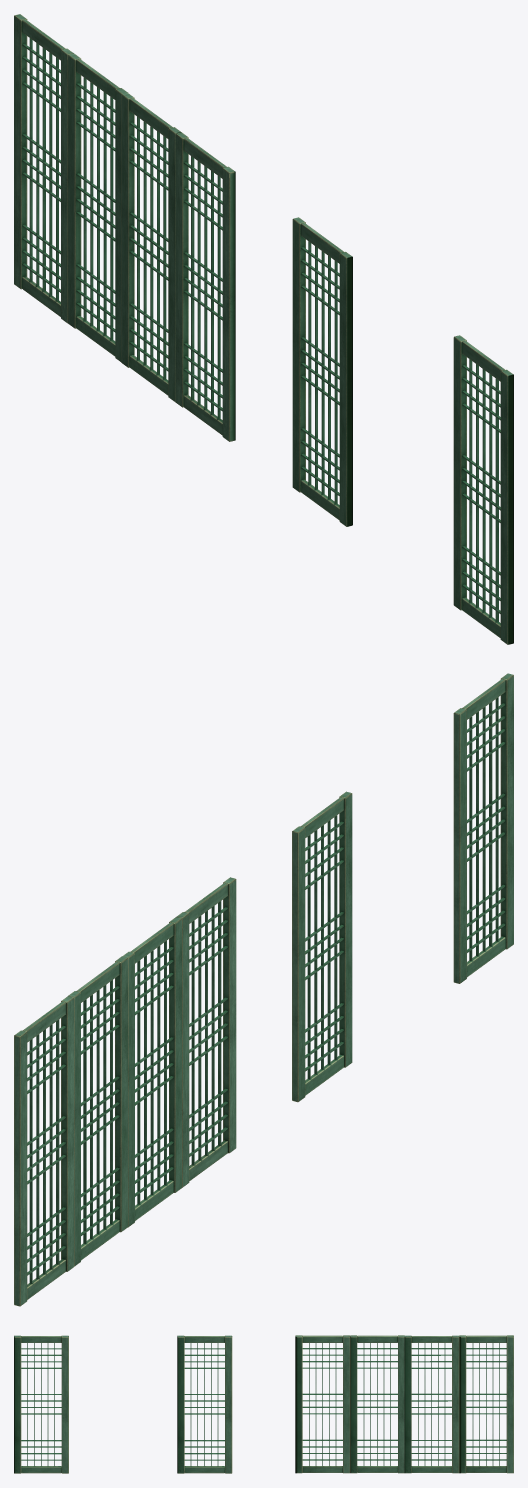
The model's file is TraditionalKoreanHouse_WindowA.fbx.
The picture shows the model from 3 angles, top to bottom: view 1: azimuth 30°, elevation 25°; view 2: azimuth 150°, elevation 25°; view 3: azimuth 270°, elevation 25°; orthographic projection. The views are drawn at different scales.
Parts seen in each view (by area): view 1: TraditionalKoreanHouse_WindowA; view 2: TraditionalKoreanHouse_WindowA; view 3: TraditionalKoreanHouse_WindowA.
Boxes of the visible parts, x1=… form: TraditionalKoreanHouse_WindowA: x1=14, y1=14, x2=513, y2=644; TraditionalKoreanHouse_WindowA: x1=14, y1=673, x2=513, y2=1306; TraditionalKoreanHouse_WindowA: x1=14, y1=1335, x2=513, y2=1473.
Bounding box in the file's own units: 4.61 × 160 × 530.
